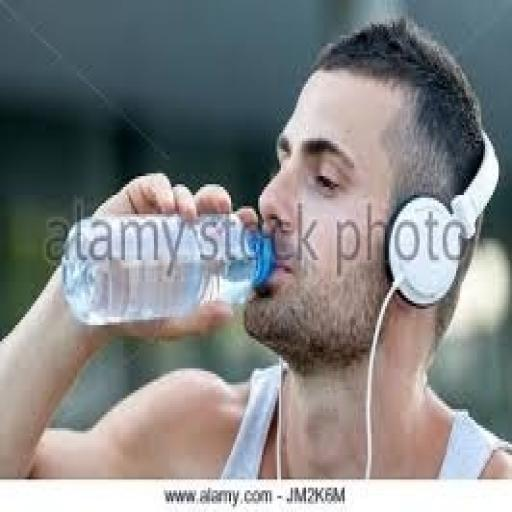drinking: (60, 209, 275, 325)
